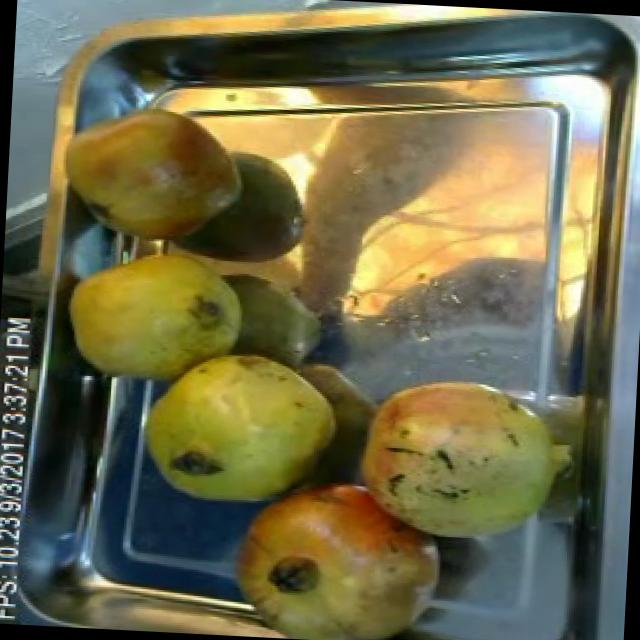fruit: (343, 360, 591, 560), (211, 463, 463, 640), (128, 340, 351, 526), (50, 92, 254, 264), (56, 230, 258, 398)
